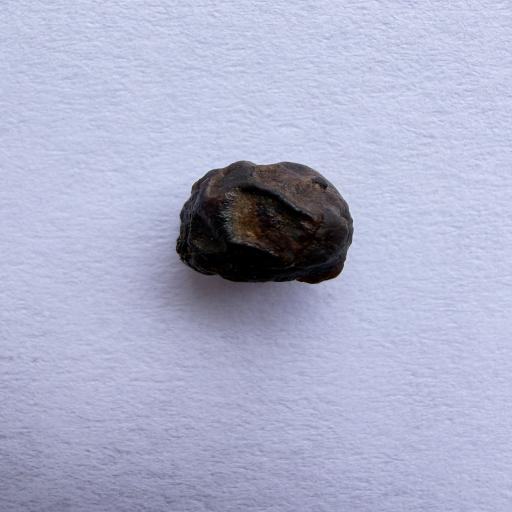Black_pepper: (72, 116, 430, 326)
